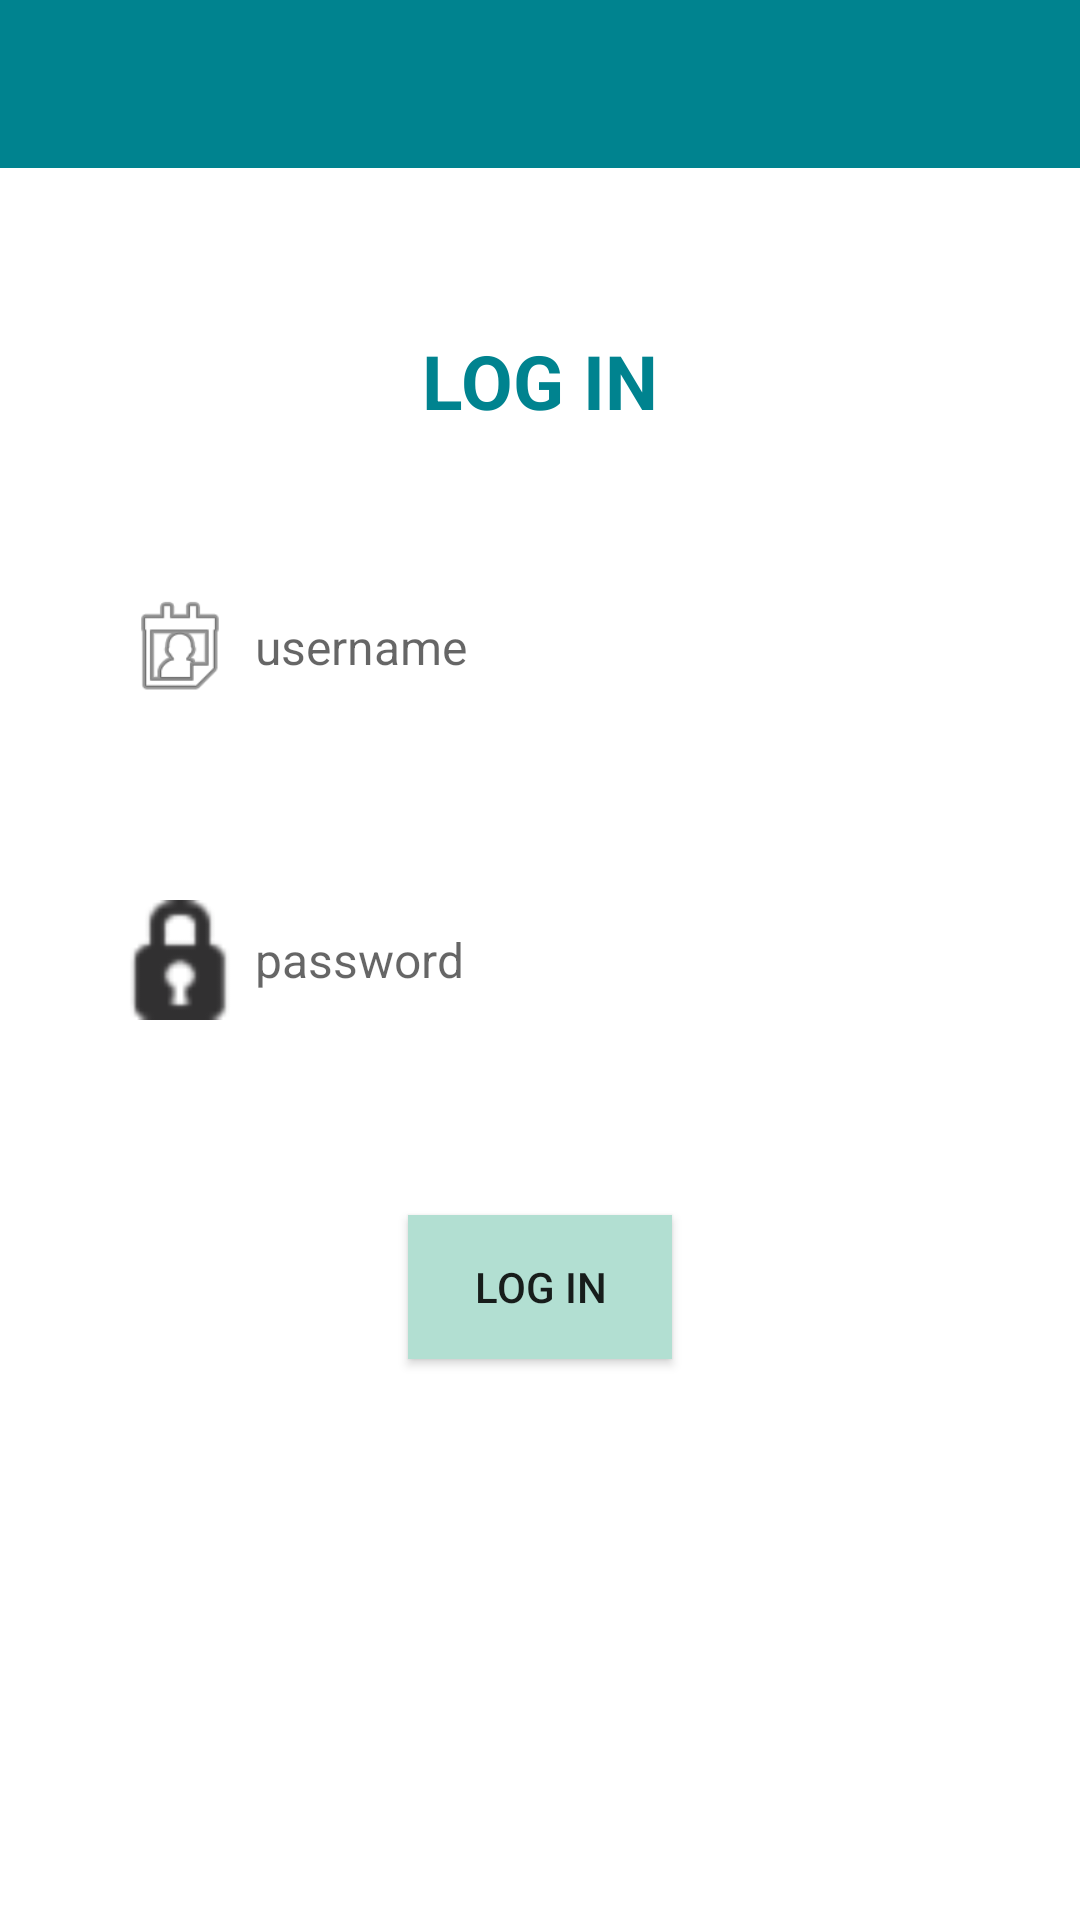

Where to tap for icons on this 1080x1920 app screen, as [x,y]:
calendar: [180,646]
secure: [179,960]
